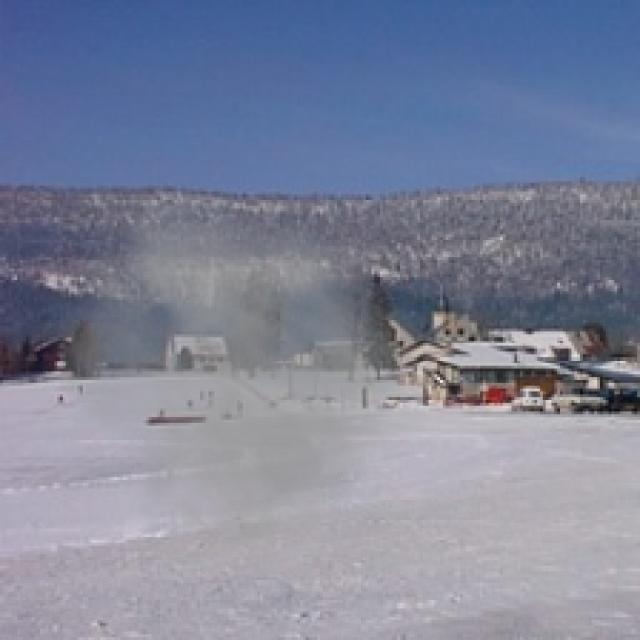smoke: (31, 194, 452, 589)
